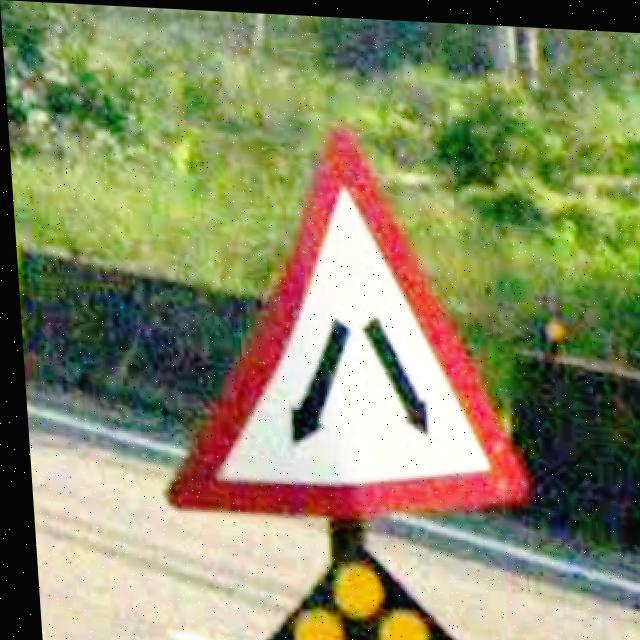diverge: (135, 108, 529, 527)
